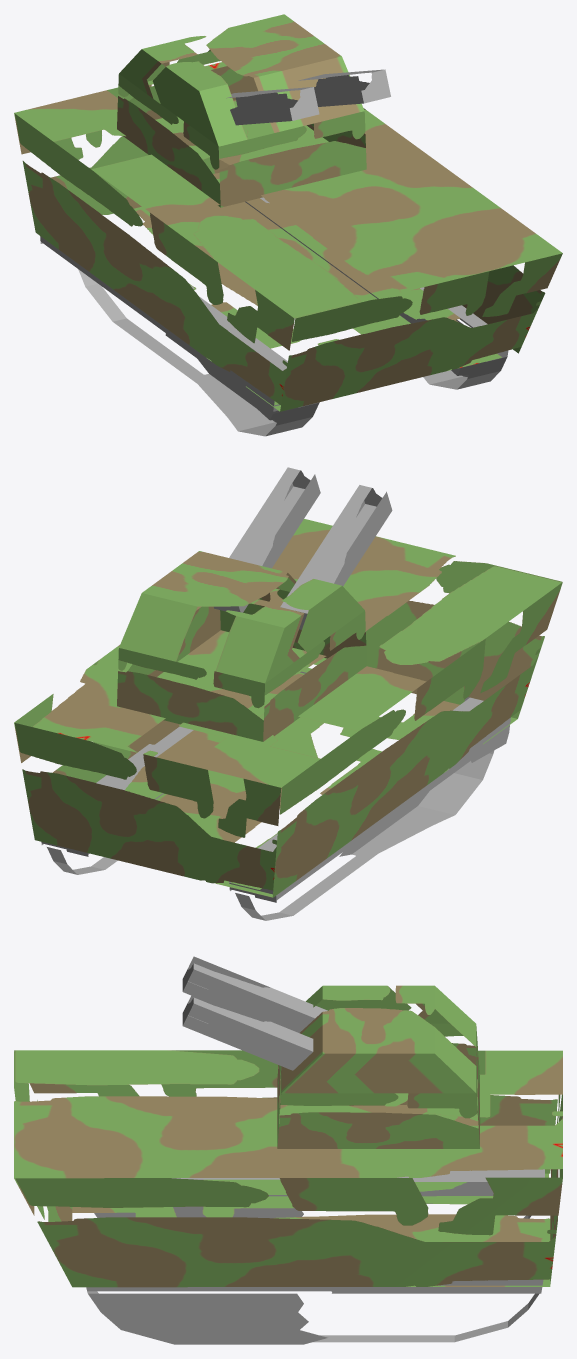
File: AATank.FBX
3 renders of one model, top to bottom at view 1: azimuth 30°, elevation 25°; view 2: azimuth 150°, elevation 25°; view 3: azimuth 270°, elevation 25°, orthographic. The views are drawn at different scales.
Visible parts, largest first — view 1: Box001, Box004, Box007, Box008, Box003, Box006; view 2: Box001, Box004, Box007, Box008, Box006, Box003; view 3: Box001, Box004, Box003, Box006, Box008, Box007.
Part boxes in pixels (x1,y1,x2,y2): Box001: [14, 62, 562, 411]; Box004: [117, 14, 366, 207]; Box007: [40, 236, 319, 436]; Box008: [226, 87, 319, 125]; Box003: [245, 197, 508, 389]; Box006: [298, 69, 390, 106]; Box001: [14, 519, 562, 897]; Box004: [117, 551, 366, 741]; Box007: [229, 697, 510, 920]; Box008: [280, 485, 392, 629]; Box006: [214, 467, 320, 612]; Box003: [41, 671, 306, 874]; Box001: [14, 1050, 562, 1287]; Box004: [277, 985, 480, 1148]; Box003: [86, 1279, 543, 1344]; Box006: [182, 990, 313, 1070]; Box008: [182, 956, 327, 1032]; Box007: [94, 1169, 544, 1218].
Size of the model in its own units: 2.92 by 3.29 by 5.3.
3 materials, 3 textured.
